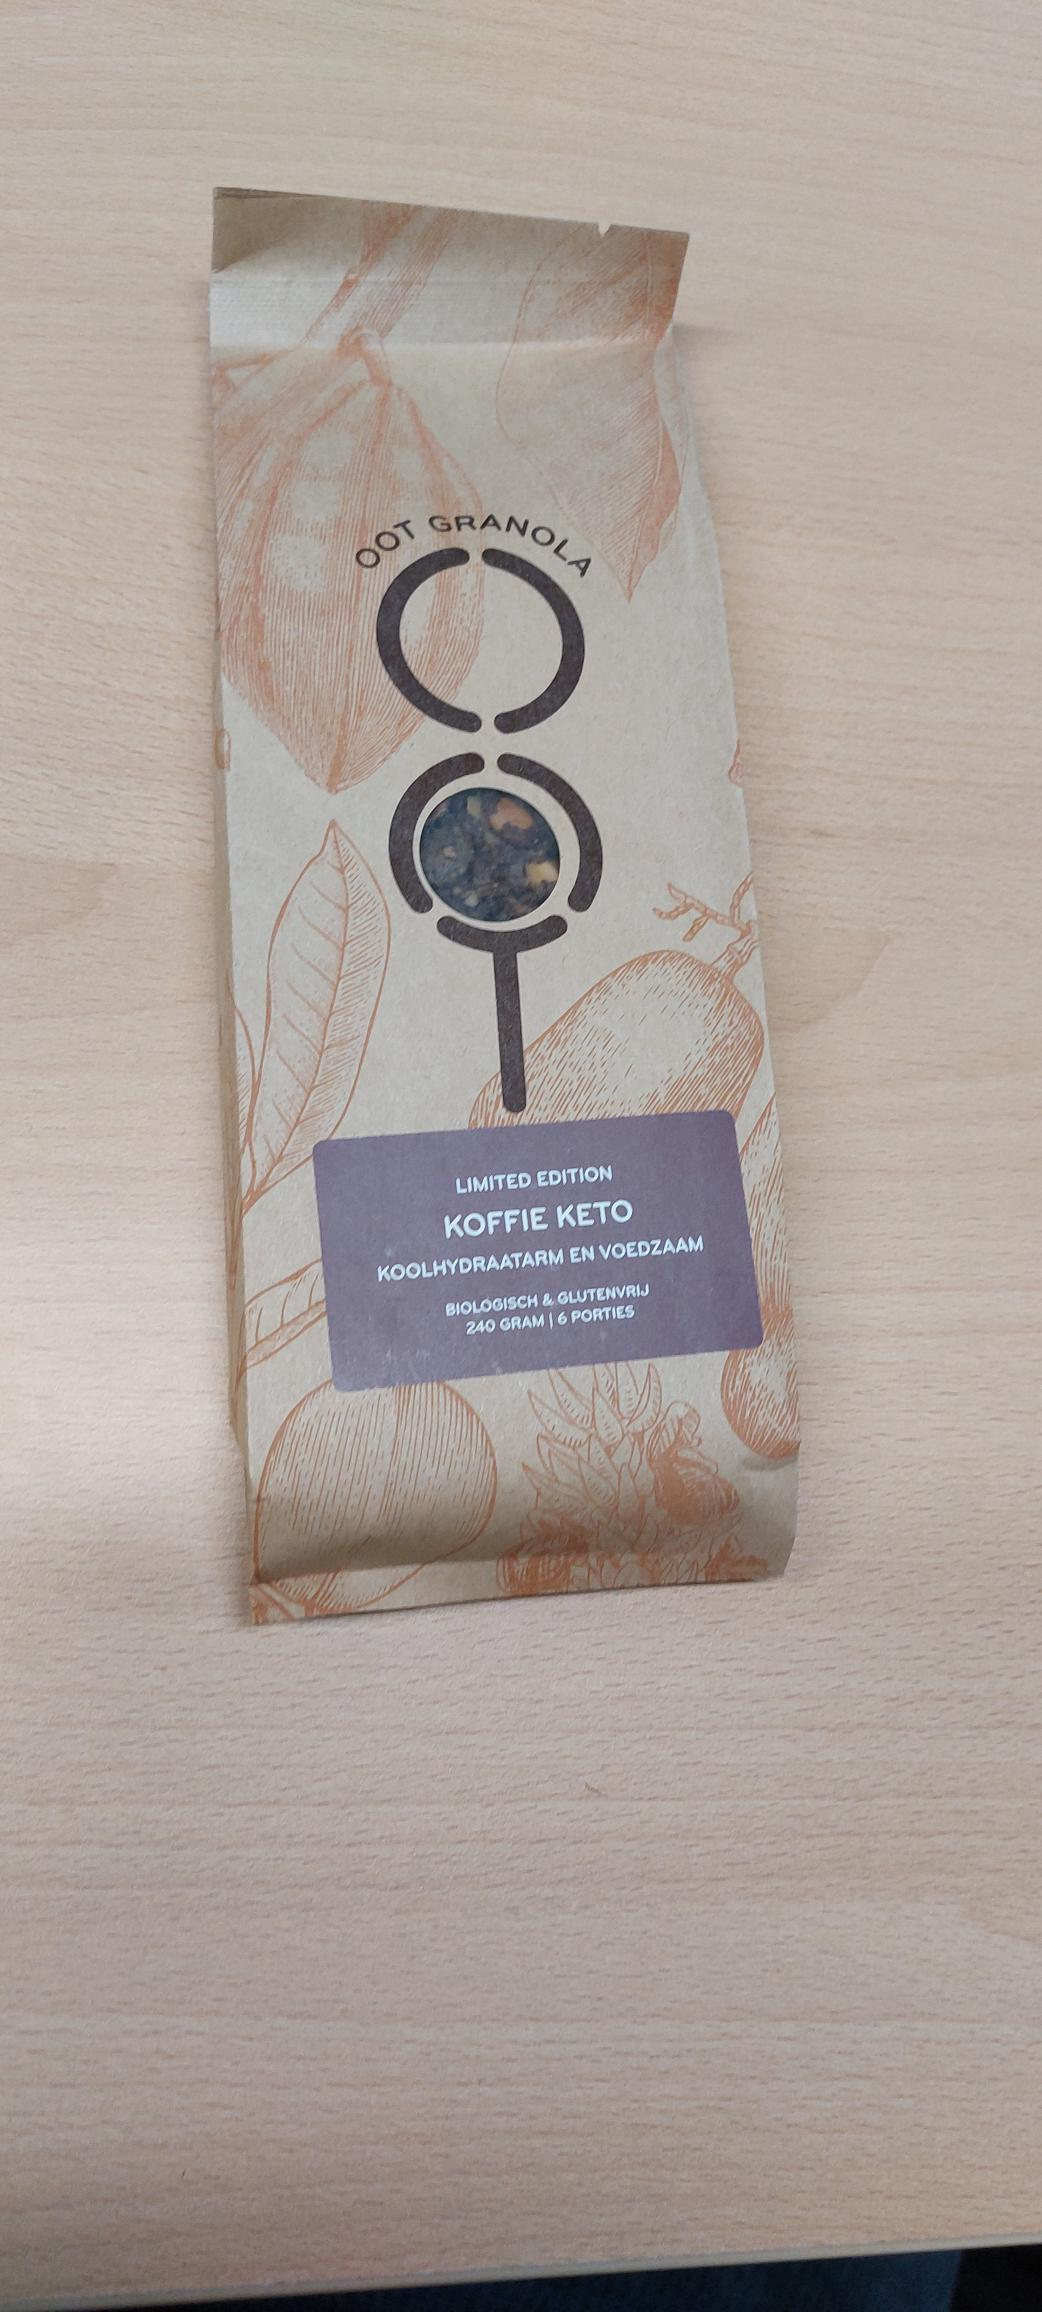KoffieKeto: (318, 1109, 774, 1402)
